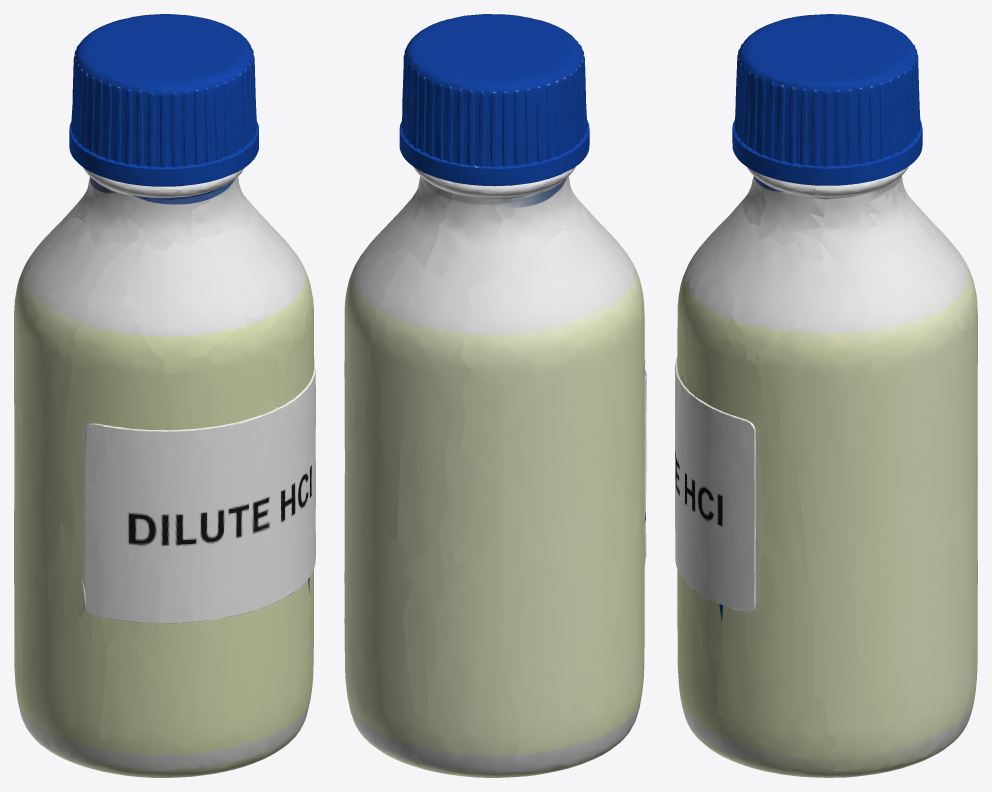
File: Meshy_AI_Dilute_HCl_Bottle_Rem_0924171040_texture.glb
3 renders of one model, left to right at view 1: azimuth 30°, elevation 25°; view 2: azimuth 150°, elevation 25°; view 3: azimuth 270°, elevation 25°, orthographic.
Parts seen in each view (by area): view 1: output_unwrapped; view 2: output_unwrapped; view 3: output_unwrapped.
Part boxes in pixels (x1,y1,x2,y2): output_unwrapped: [14, 14, 315, 777]; output_unwrapped: [344, 14, 646, 777]; output_unwrapped: [675, 14, 977, 777].
Bounding box in the file's own units: 0.7657 × 1.9 × 0.7714.
1 material, 1 textured.
